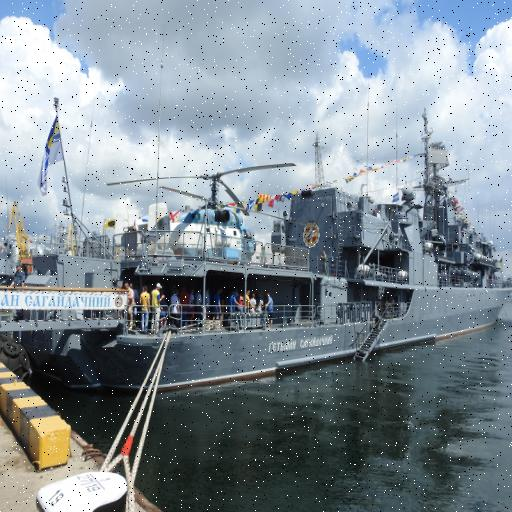Fragata: (45, 103, 512, 405)
